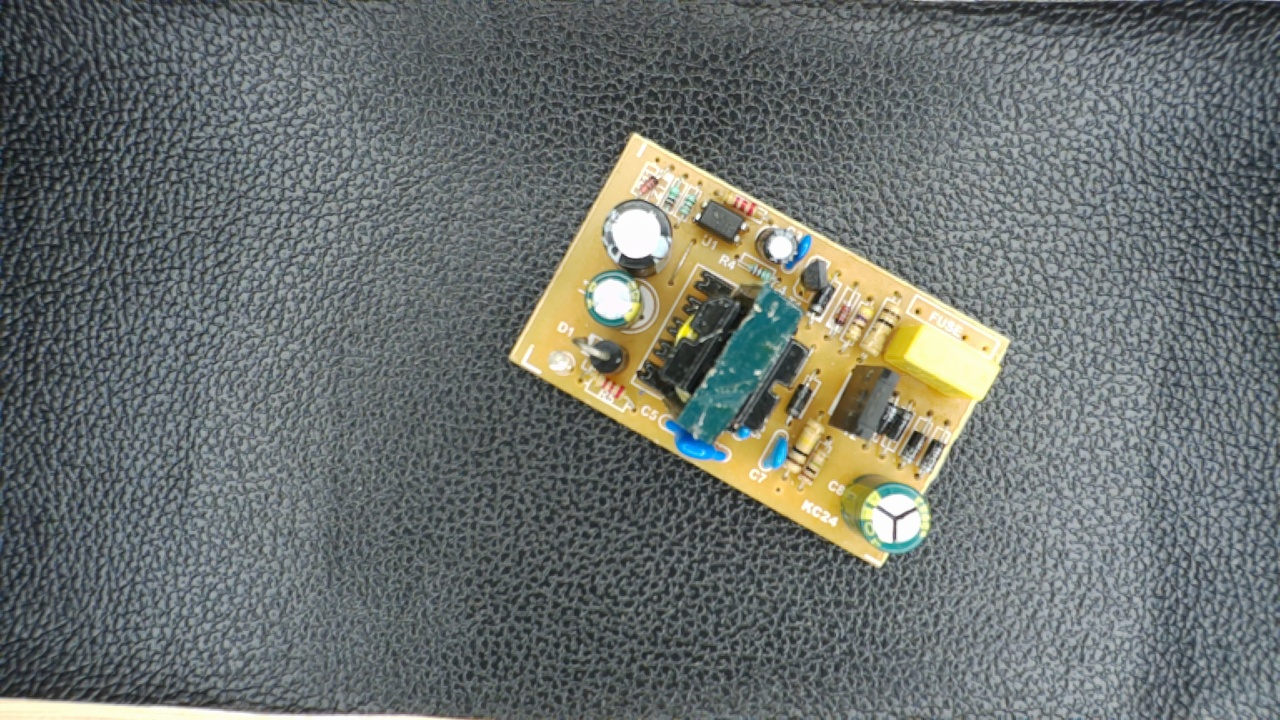hv_capacitor: (836, 471, 932, 554)
mov: (662, 417, 731, 465)
optocoupler: (692, 195, 749, 248)
